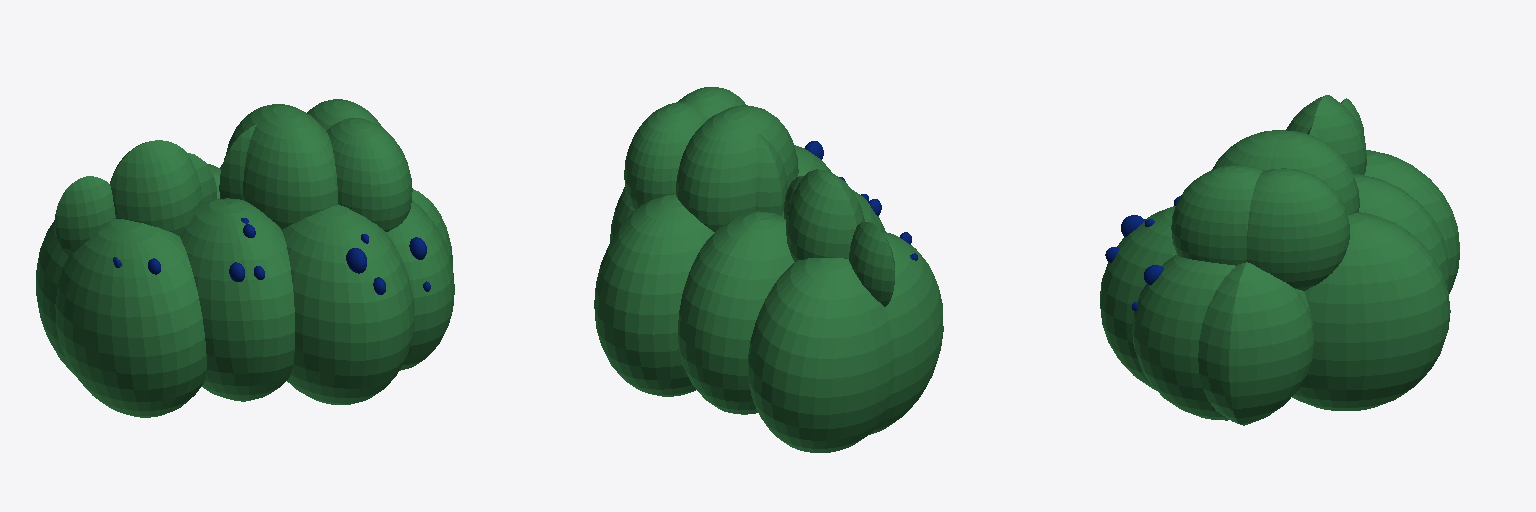
The model's file is bush2.obj.
The picture shows the model from 3 angles: view 1: azimuth 30°, elevation 25°; view 2: azimuth 150°, elevation 25°; view 3: azimuth 270°, elevation 25°; orthographic projection.
Parts seen in each view (by area): view 1: Sphere006, Sphere005, Sphere007; view 2: Sphere006, Sphere007; view 3: Sphere006, Sphere005, Sphere007.
Boxes of the visible parts, <box> form: Sphere006: <box>36,99,452,417</box>; Sphere005: <box>386,200,454,370</box>; Sphere007: <box>113,218,430,294</box>; Sphere006: <box>594,87,943,452</box>; Sphere007: <box>805,141,917,260</box>; Sphere006: <box>1100,95,1459,425</box>; Sphere005: <box>1132,255,1310,420</box>; Sphere007: <box>1105,196,1180,311</box>.
Bounding box in the file's own units: 14.09 × 10.8 × 12.9.